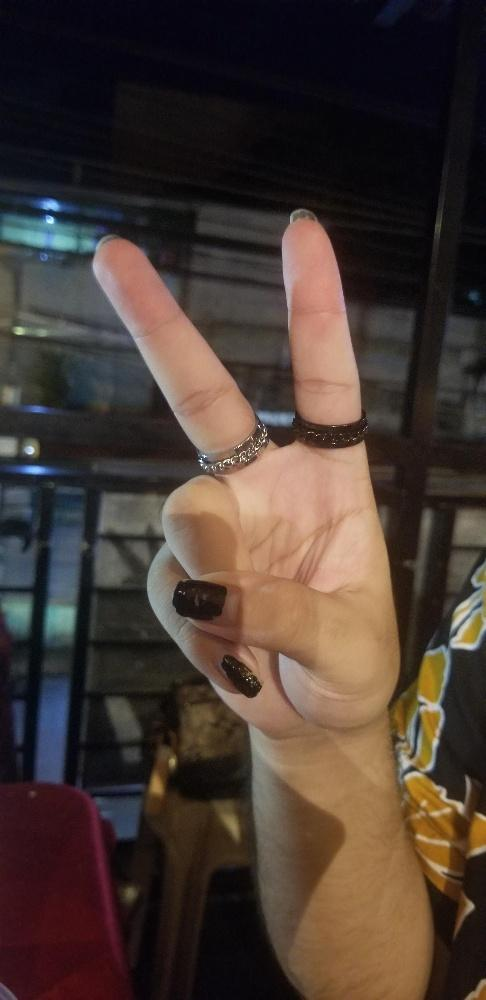v: (86, 217, 408, 736)
